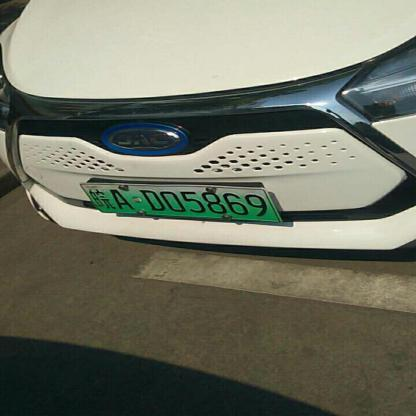lp: (79, 182, 282, 221)
